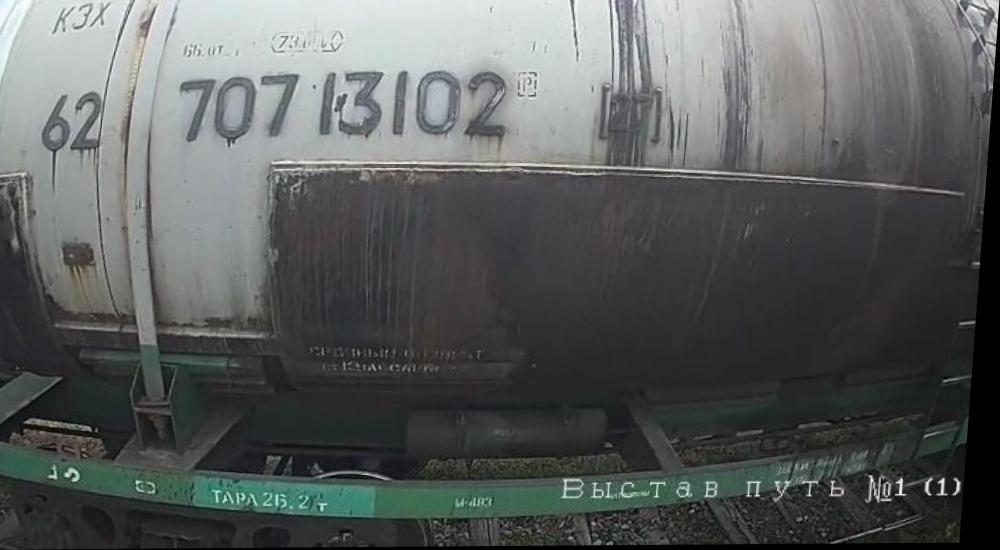Wagon-number: (174, 69, 516, 141)
